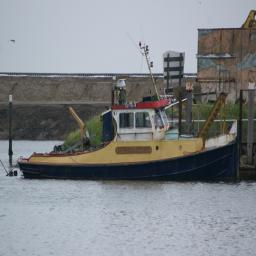tugboat: (16, 86, 242, 192)
